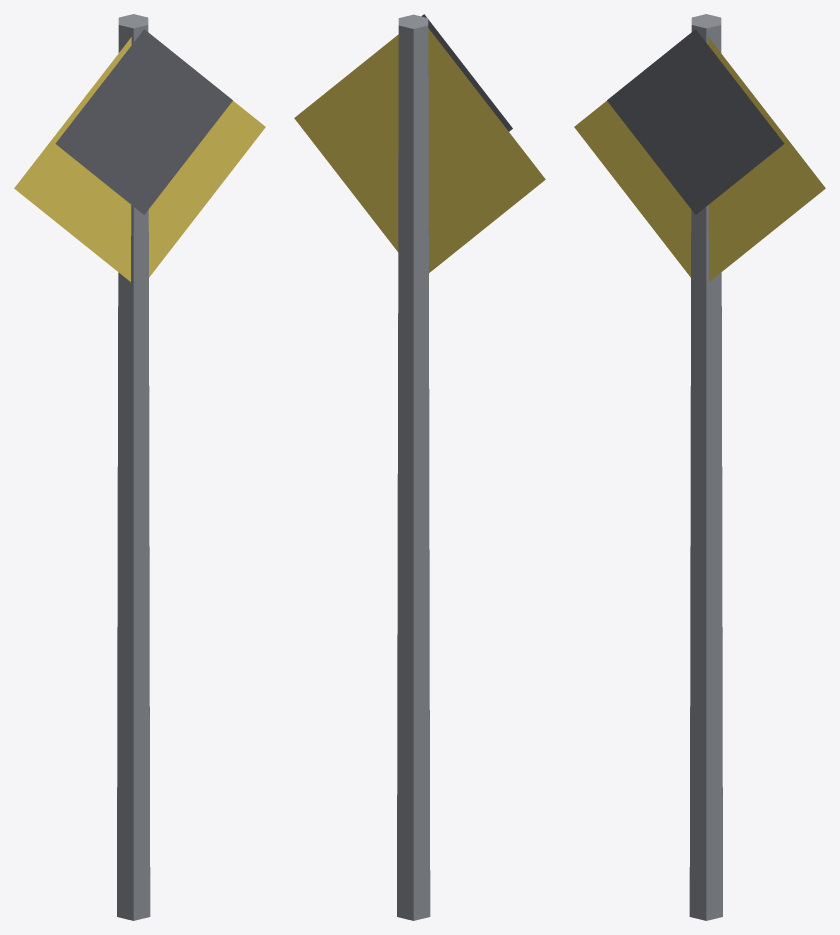
Rendered from prop-sign-warning.glb.
3 renders of one model, left to right at view 1: azimuth 30°, elevation 25°; view 2: azimuth 150°, elevation 25°; view 3: azimuth 330°, elevation 25°, orthographic.
Parts seen in each view (by area): view 1: sign-post, sign-diamond-inner, sign-diamond; view 2: sign-post, sign-diamond, sign-diamond-inner; view 3: sign-post, sign-diamond-inner, sign-diamond.
Part boxes in pixels (x1,y1,x2,y2): sign-post: (117, 14, 150, 920); sign-diamond-inner: (55, 29, 232, 214); sign-diamond: (14, 37, 265, 281); sign-post: (397, 14, 430, 920); sign-diamond: (294, 28, 545, 272); sign-diamond-inner: (421, 14, 512, 131); sign-post: (689, 14, 722, 920); sign-diamond-inner: (607, 29, 784, 214); sign-diamond: (574, 37, 825, 281).
Bounding box in the file's own units: 0.68 × 2.3 × 0.089.
